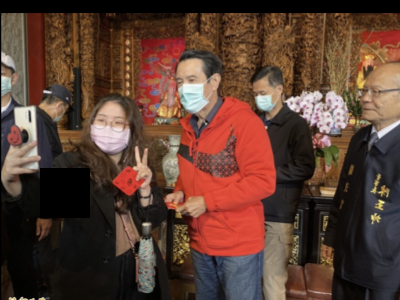with_mask: (88, 111, 131, 155), (173, 73, 212, 113), (251, 86, 279, 113), (0, 69, 12, 96), (50, 105, 67, 123)
without_mask: (360, 81, 395, 122)
